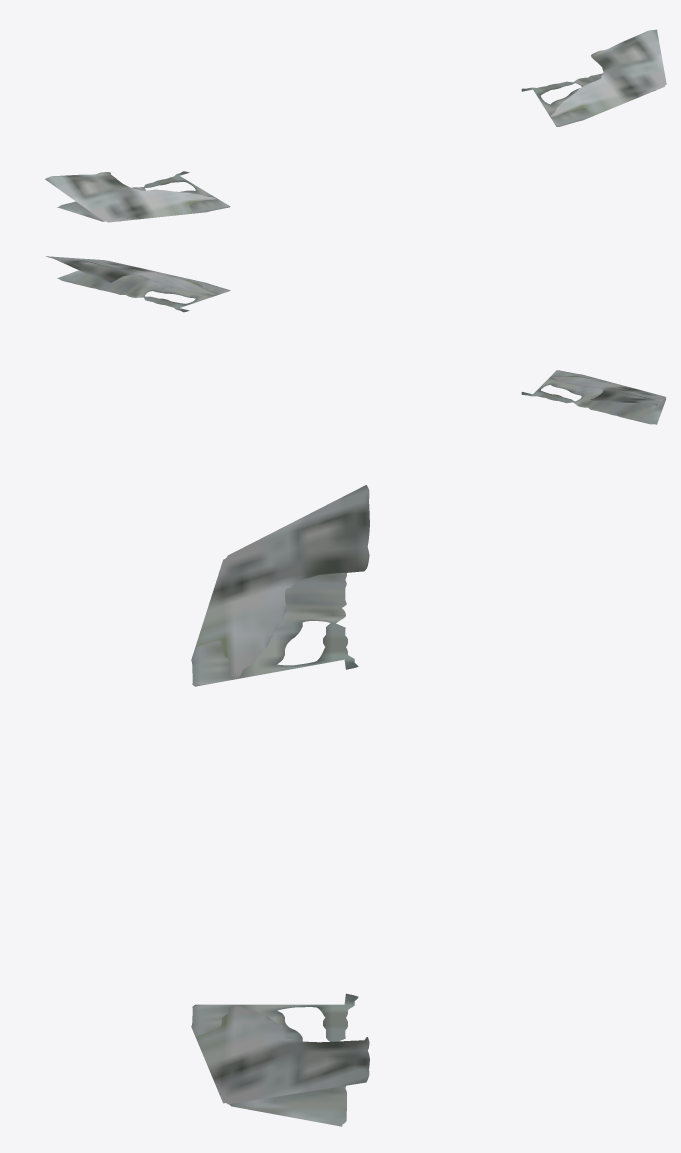
File: kse_firespray_struct_s01_l3.fbx
The picture shows the model from 3 angles, top to bottom: view 1: azimuth 30°, elevation 25°; view 2: azimuth 150°, elevation 25°; view 3: azimuth 270°, elevation 25°; orthographic projection. The views are drawn at different scales.
Visible parts, largest first — view 1: mesh_node; view 2: mesh_node; view 3: mesh_node.
Boxes of the visible parts, bbox=[...] form: mesh_node: bbox=[45, 29, 666, 222]; mesh_node: bbox=[46, 256, 666, 424]; mesh_node: bbox=[191, 485, 369, 1126].
Size of the model in its own units: 24.99 by 1.55 by 5.5.
Materials: 1 (1 with a texture image).
